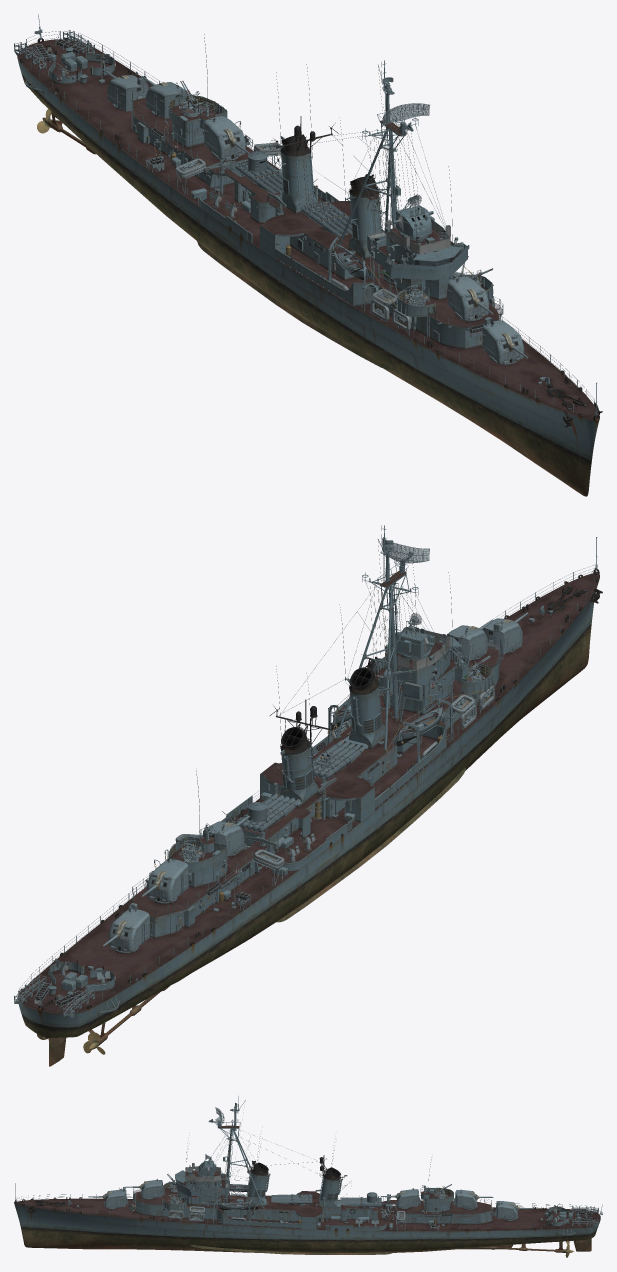
3 renders of one model, top to bottom at view 1: azimuth 30°, elevation 25°; view 2: azimuth 150°, elevation 25°; view 3: azimuth 270°, elevation 25°, orthographic. The views are drawn at different scales.
Parts seen in each view (by area): view 1: Object_152, Object_150, Object_148, Object_154, Object_98, Object_146, Object_100, Object_144, Object_110, Object_22, Object_102, Object_20 (+4 smaller); view 2: Object_150, Object_152, Object_154, Object_148, Object_146, Object_100, Object_98, Object_144, Object_102, Object_22, Object_110, Object_20 (+3 smaller); view 3: Object_152, Object_150, Object_148, Object_154, Object_146, Object_100, Object_98, Object_144, Object_110, Object_22, Object_108, Object_20 (+3 smaller).
Part boxes in pixels (x1,y1,x2,y2): Object_152: [267, 62, 502, 418]; Object_150: [107, 95, 350, 303]; Object_148: [443, 339, 602, 496]; Object_154: [14, 14, 152, 167]; Object_98: [204, 116, 493, 320]; Object_146: [18, 31, 518, 355]; Object_100: [141, 76, 528, 364]; Object_144: [114, 34, 598, 418]; Object_110: [253, 143, 494, 331]; Object_22: [235, 151, 282, 193]; Object_102: [103, 69, 148, 111]; Object_20: [300, 199, 351, 236]; Object_150: [108, 699, 375, 970]; Object_152: [311, 527, 520, 866]; Object_154: [14, 902, 215, 1066]; Object_148: [499, 537, 602, 735]; Object_146: [19, 525, 518, 1012]; Object_100: [141, 612, 528, 902]; Object_98: [203, 619, 493, 856]; Object_144: [114, 564, 598, 932]; Object_102: [103, 907, 149, 952]; Object_22: [235, 793, 300, 833]; Object_110: [175, 685, 494, 842]; Object_20: [312, 740, 366, 779]; Object_152: [133, 1097, 308, 1254]; Object_150: [290, 1155, 481, 1254]; Object_148: [14, 1183, 136, 1249]; Object_154: [466, 1202, 602, 1252]; Object_146: [133, 1100, 601, 1230]; Object_100: [88, 1188, 493, 1208]; Object_98: [125, 1179, 420, 1207]; Object_144: [15, 1145, 479, 1230]; Object_110: [168, 1194, 405, 1222]; Object_22: [340, 1192, 381, 1208]; Object_108: [218, 1184, 258, 1209]; Object_20: [271, 1192, 312, 1206].
Bounding box in the file's own units: 8.26 × 22.4 × 76.77.
68 materials, 68 textured.
